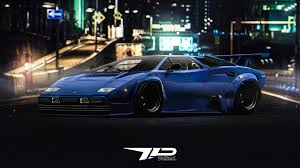Lamborghini: (50, 55, 262, 112)
